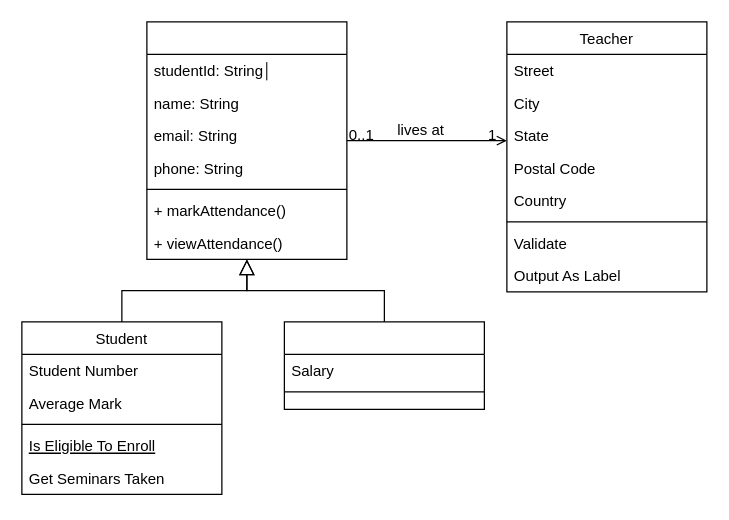
Image size: 729x520. Some labels were removed from this diagram. The shapes that lost their labels are listed below. From the top down, each one's box as (x1, y1, x2, y2) in pixels, then its label:
(146, 21, 347, 259): Person
(283, 321, 484, 409): Professor
